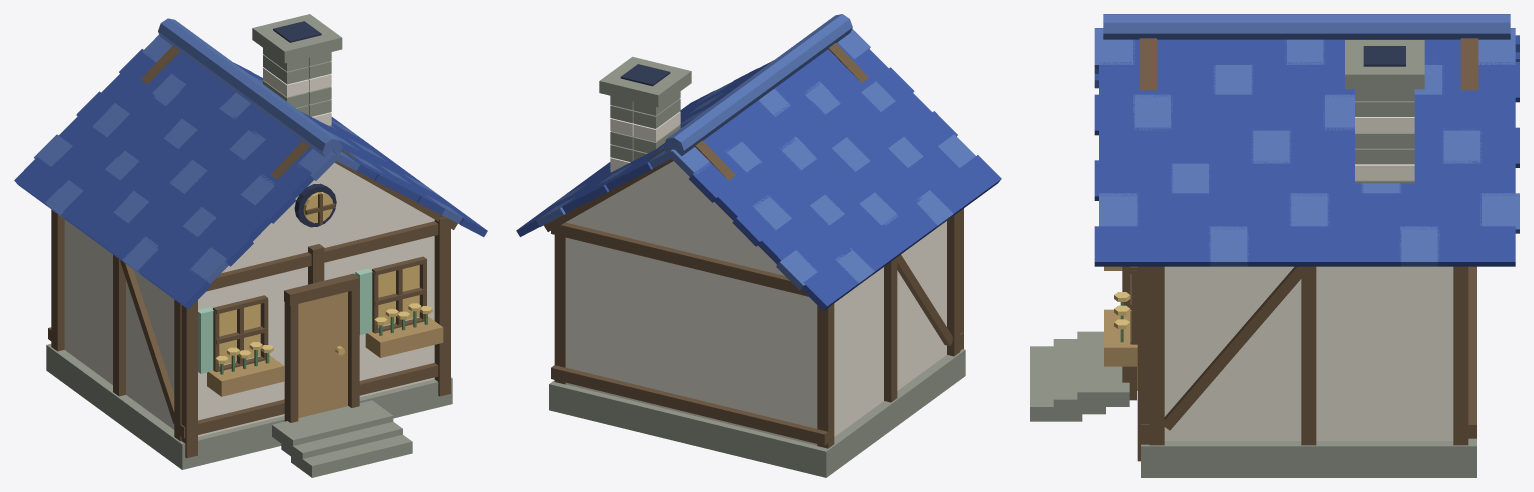
The model's file is pocket-cottage.glb.
3 views of the same model, side by side, from view 1: azimuth 30°, elevation 25°; view 2: azimuth 150°, elevation 25°; view 3: azimuth 270°, elevation 25° (orthographic). The views are drawn at different scales.
Parts seen in each view (by area): view 1: Cottage / roof, Cottage / plaster, Cottage / wood, Cottage / stone, Cottage / roofLight, Cottage / planks, Cottage / glass, Cottage / mint, Cottage / iron, Cottage / flower, Cottage / leaf; view 2: Cottage / plaster, Cottage / roof, Cottage / wood, Cottage / stone, Cottage / roofLight, Cottage / iron; view 3: Cottage / roof, Cottage / plaster, Cottage / roofLight, Cottage / stone, Cottage / wood, Cottage / planks, Cottage / iron.
Boxes of the visible parts, box(x1,y1,x2,y2) form: Cottage / roof: box(14, 49, 487, 309); Cottage / plaster: box(64, 67, 434, 436); Cottage / wood: box(48, 45, 457, 458); Cottage / stone: box(46, 14, 452, 477); Cottage / roofLight: box(33, 18, 463, 283); Cottage / planks: box(207, 292, 443, 418); Cottage / glass: box(219, 192, 419, 365); Cottage / mint: box(198, 268, 372, 373); Cottage / iron: box(273, 21, 336, 227); Cottage / flower: box(215, 303, 432, 363); Cottage / leaf: box(220, 311, 427, 374); Cottage / plaster: box(565, 111, 946, 445); Cottage / roof: box(516, 42, 1001, 310); Cottage / wood: box(544, 43, 963, 448); Cottage / stone: box(549, 56, 965, 477); Cottage / roofLight: box(536, 14, 975, 290); Cottage / iron: box(620, 64, 670, 86); Cottage / roof: box(1094, 35, 1519, 266); Cottage / plaster: box(1164, 117, 1453, 440); Cottage / roofLight: box(1094, 14, 1519, 266); Cottage / stone: box(1030, 40, 1476, 477); Cottage / wood: box(1122, 38, 1478, 461); Cottage / planks: box(1104, 266, 1137, 390); Cottage / iron: box(1363, 46, 1405, 66).
Size of the model in its own units: 3.48 by 3.44 by 3.93.
